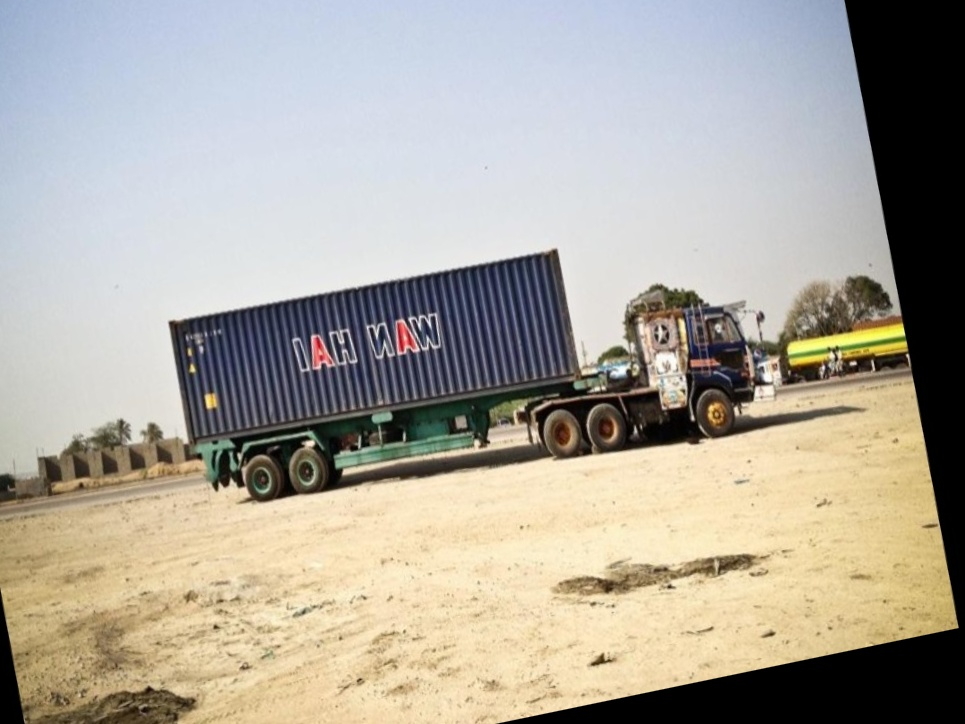truck: (161, 202, 771, 544)
